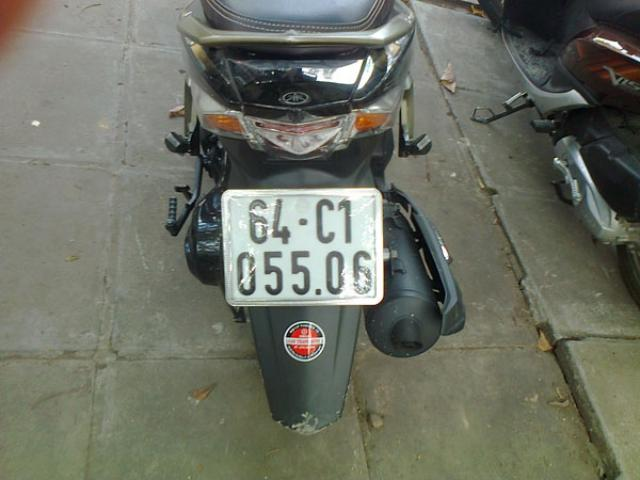plate: (223, 191, 377, 301)
